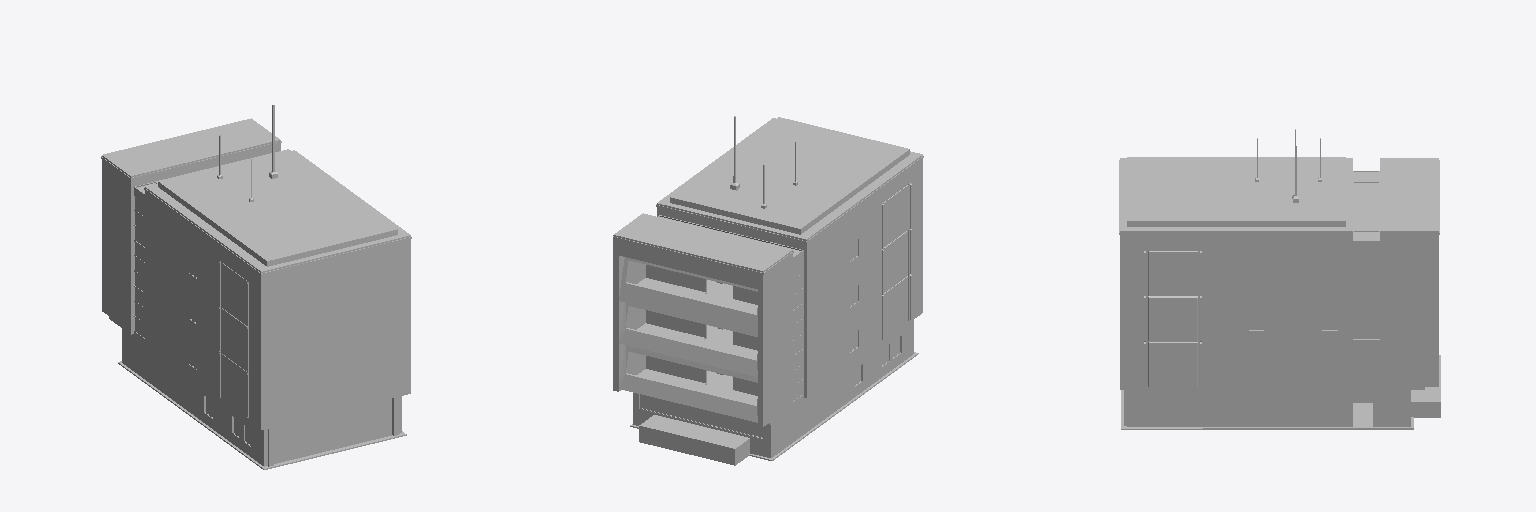
File: Building002.obj
The picture shows the model from 3 angles: view 1: azimuth 30°, elevation 25°; view 2: azimuth 150°, elevation 25°; view 3: azimuth 270°, elevation 25°; orthographic projection.
Visible parts, largest first — view 1: Residential_Buildings_002_Cube.012; view 2: Residential_Buildings_002_Cube.012; view 3: Residential_Buildings_002_Cube.012.
Boxes of the visible parts, <box> form: Residential_Buildings_002_Cube.012: <box>101,105,411,469</box>; Residential_Buildings_002_Cube.012: <box>613,116,923,465</box>; Residential_Buildings_002_Cube.012: <box>1119,129,1440,429</box>.
Bounding box in the file's own units: 12.59 × 21.99 × 23.1.